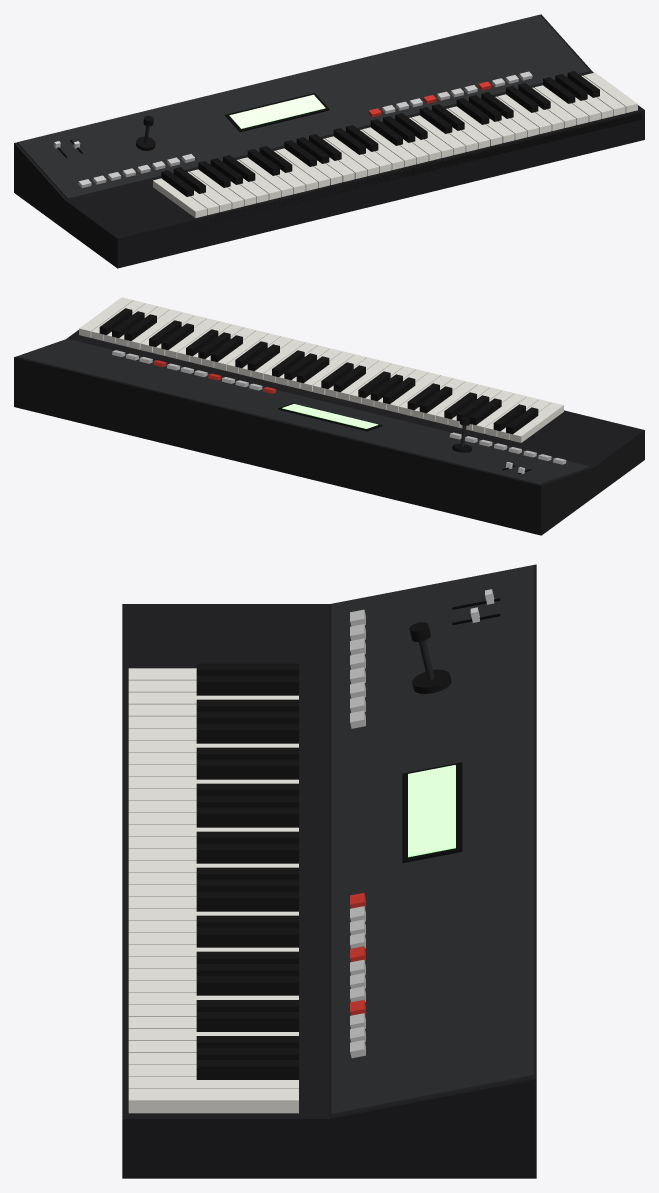
3 views of the same model, one above another, from view 1: azimuth 30°, elevation 25°; view 2: azimuth 150°, elevation 25°; view 3: azimuth 270°, elevation 25° (orthographic). The views are drawn at different scales.
Parts seen in each view (by area): view 1: D-50; view 2: D-50; view 3: D-50.
Part boxes in pixels (bbox=[...]): D-50: bbox=[14, 14, 644, 268]; D-50: bbox=[14, 297, 644, 535]; D-50: bbox=[122, 564, 536, 1178].
Bounding box in the file's own units: 1 × 0.1284 × 0.34.
